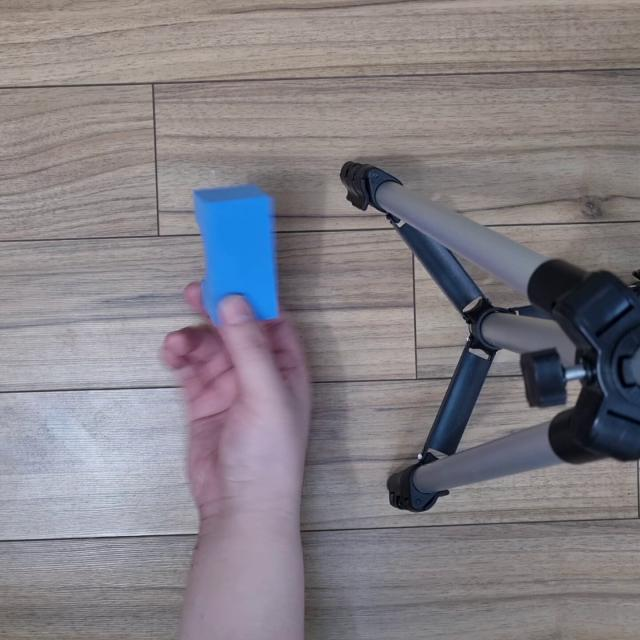block: (179, 179, 285, 334)
hand: (147, 260, 350, 516)
